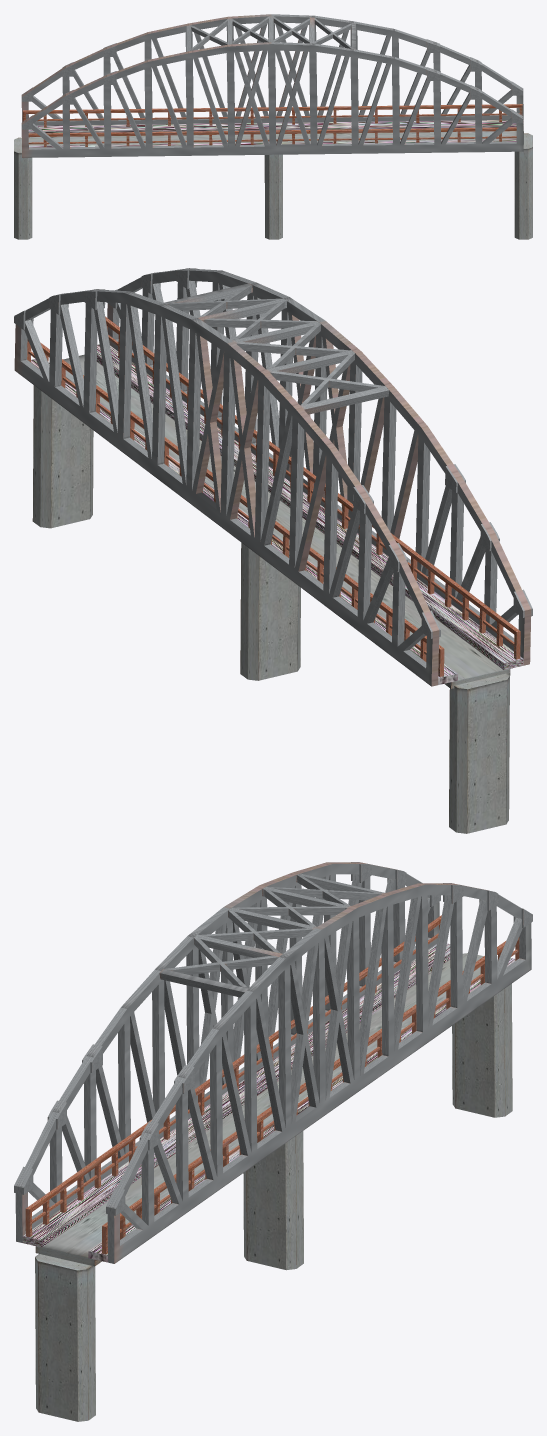
The model's file is GMLID_BUI30683_572_6686.gltf.
3 views of the same model, one above another, from view 1: azimuth 30°, elevation 25°; view 2: azimuth 150°, elevation 25°; view 3: azimuth 270°, elevation 25° (orthographic). The views are drawn at different scales.
Parts seen in each view (by area): view 1: Z_UP; view 2: Z_UP; view 3: Z_UP.
Boxes of the visible parts, <box> form: Z_UP: <box>14,14,532,239</box>; Z_UP: <box>14,268,532,833</box>; Z_UP: <box>14,862,532,1421</box>.
Bounding box in the file's own units: 61.81 × 29.7 × 41.08.
Materials: 1 (1 with a texture image).
